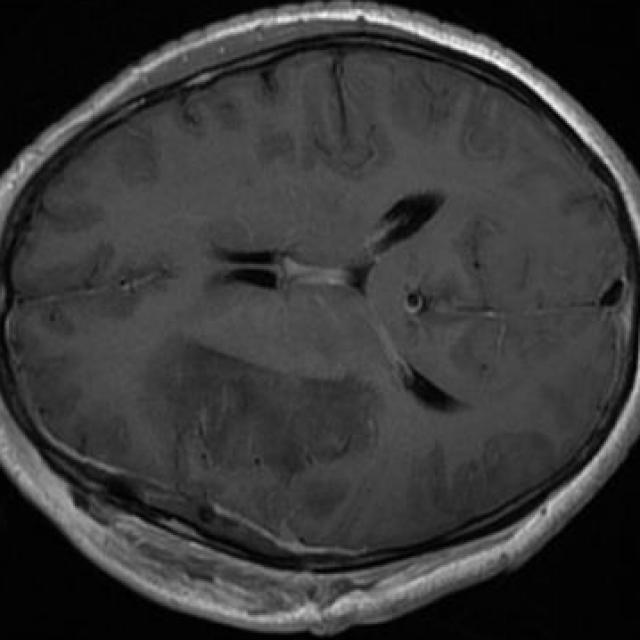glioma: (148, 335, 380, 474)
